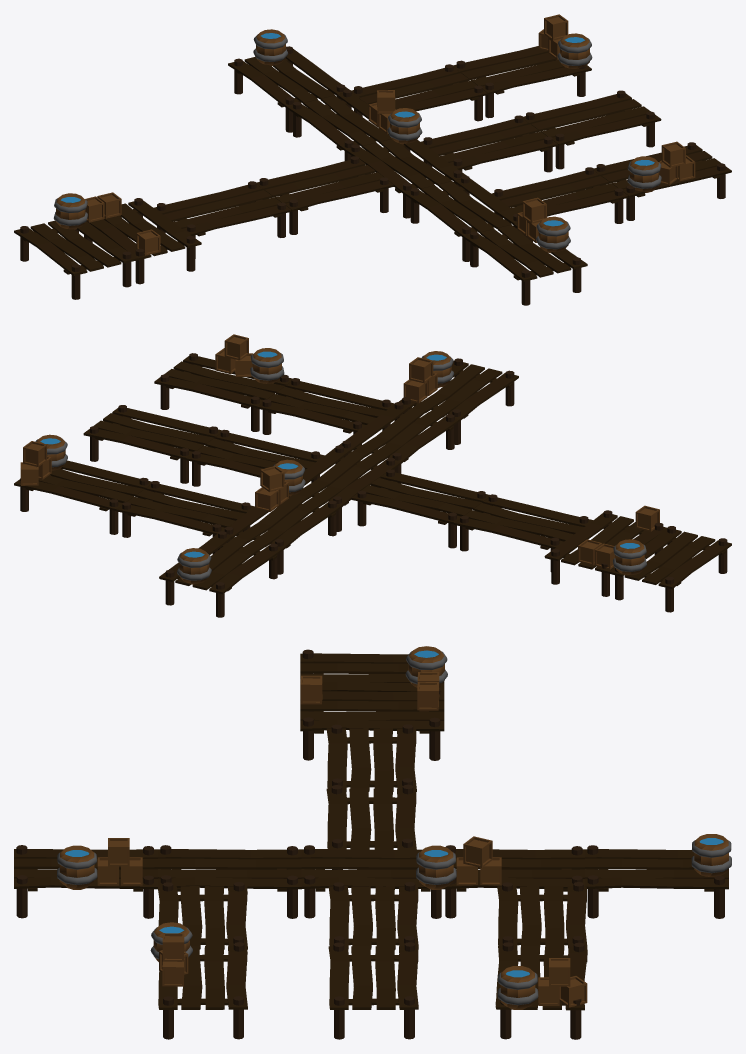
Rendered from wooden_docks_props.glb.
3 renders of one model, top to bottom at view 1: azimuth 30°, elevation 25°; view 2: azimuth 150°, elevation 25°; view 3: azimuth 270°, elevation 25°, orthographic. The views are drawn at different scales.
Parts seen in each view (by area): view 1: Cube.013, Torus.004, Torus.006, Torus.005, Torus.001, Torus.002, Torus.003, Cube.016, Cube.004, Cube.009, Cube.012; view 2: Cube.013, Torus.006, Torus.004, Torus.005, Torus.001, Torus.002, Torus.003, Cube.016, Cube.004, Cube.006, Cube.009, Cube.012 (+2 smaller); view 3: Cube.013, Torus.001, Torus.002, Torus.003, Torus.006, Torus.004, Cube.006, Torus.005, Cube.012, Cube.007, Cube.016, Cube.004 (+2 smaller).
Boxes of the visible parts, left/top/right/bottom form: Cube.013: left=14, top=46, right=731, bottom=305; Torus.004: left=53, top=193, right=87, bottom=229; Torus.006: left=253, top=29, right=288, bottom=65; Torus.005: left=627, top=156, right=661, bottom=192; Torus.001: left=536, top=216, right=570, bottom=253; Torus.002: left=387, top=108, right=422, bottom=144; Torus.003: left=557, top=33, right=592, bottom=68; Cube.016: left=661, top=141, right=685, bottom=167; Cube.004: left=522, top=197, right=546, bottom=223; Cube.009: left=544, top=14, right=568, bottom=40; Cube.012: left=136, top=229, right=160, bottom=255; Cube.013: left=14, top=353, right=731, bottom=617; Torus.006: left=177, top=548, right=211, bottom=584; Torus.004: left=613, top=539, right=646, bottom=575; Torus.005: left=250, top=348, right=284, bottom=383; Torus.001: left=421, top=351, right=454, bottom=387; Torus.002: left=273, top=459, right=305, bottom=496; Torus.003: left=35, top=434, right=67, bottom=470; Cube.016: left=224, top=334, right=248, bottom=360; Cube.004: left=409, top=357, right=433, bottom=383; Cube.006: left=260, top=466, right=284, bottom=491; Cube.009: left=23, top=441, right=46, bottom=466; Cube.012: left=635, top=505, right=659, bottom=531; Cube.013: left=14, top=649, right=728, bottom=1039; Torus.001: left=57, top=845, right=97, bottom=889; Torus.002: left=416, top=845, right=456, bottom=889; Torus.003: left=497, top=966, right=538, bottom=1009; Torus.006: left=691, top=834, right=731, bottom=876; Torus.004: left=405, top=646, right=447, bottom=687; Cube.006: left=463, top=836, right=492, bottom=867; Torus.005: left=150, top=922, right=192, bottom=961; Cube.012: left=300, top=675, right=322, bottom=704; Cube.007: left=559, top=976, right=587, bottom=1007; Cube.016: left=162, top=933, right=184, bottom=961; Cube.004: left=108, top=838, right=129, bottom=866.
Bounding box in the file's own units: 17.68 × 1.68 × 14.99.
